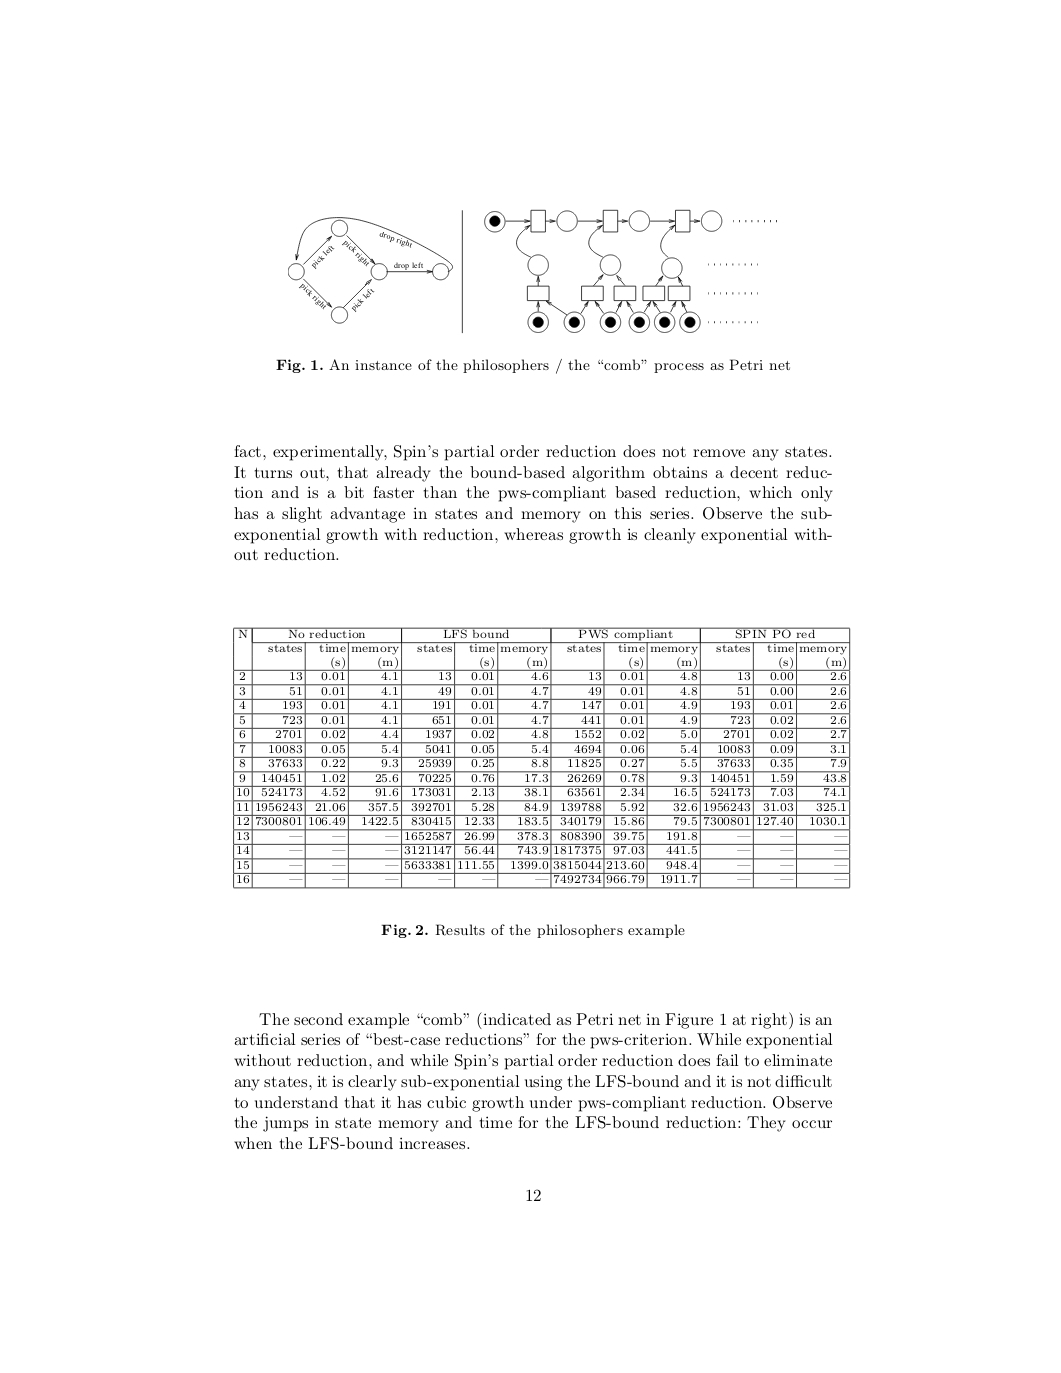Table: (233, 626, 850, 889)
figure: (288, 208, 776, 334)
